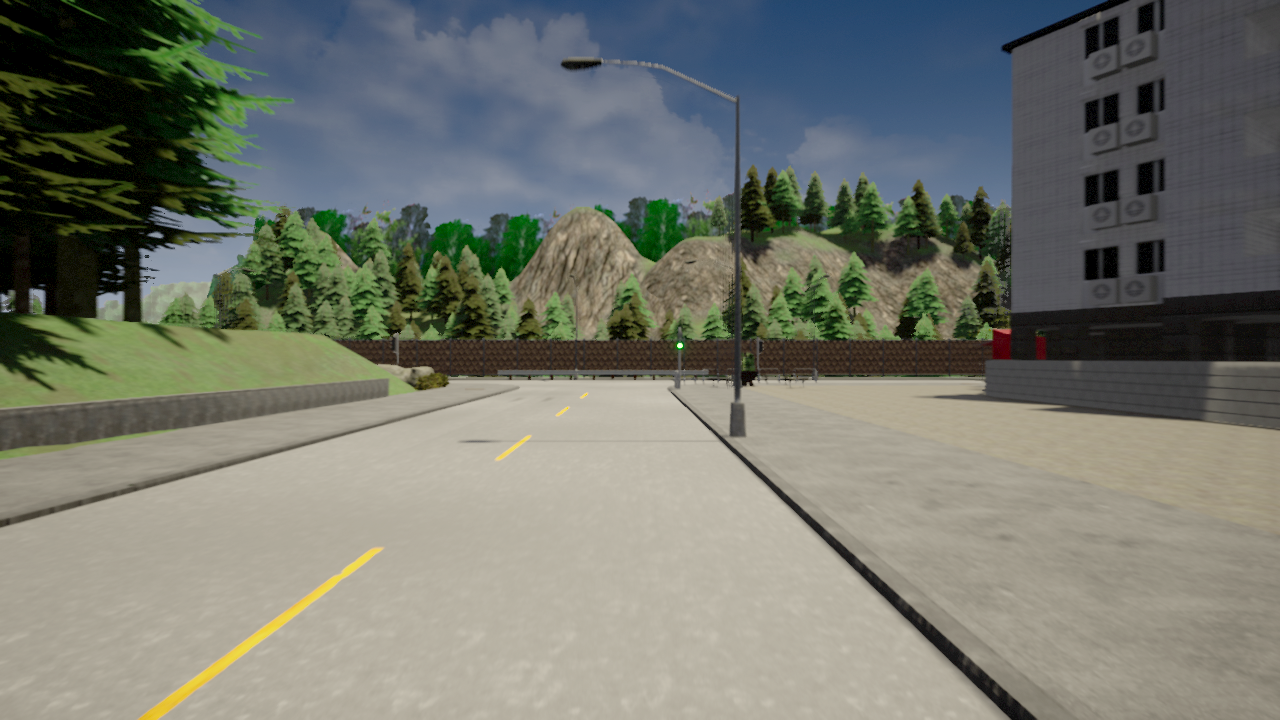green: (676, 332, 684, 350)
